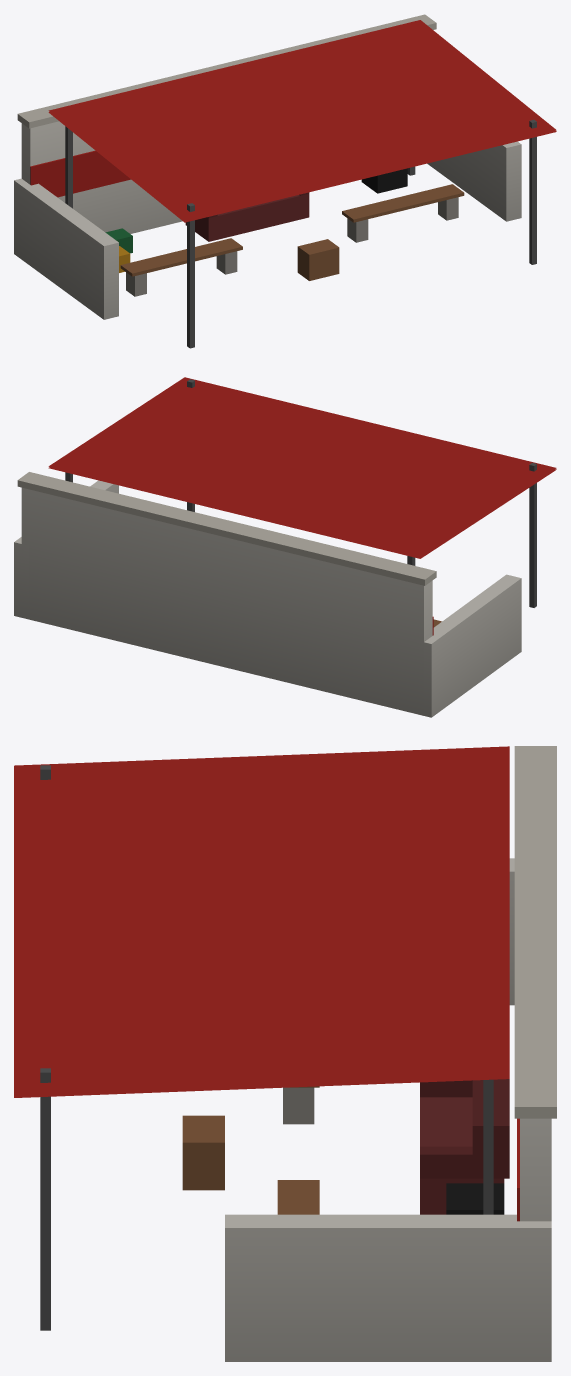
The model's file is ub_base_red.glb.
3 renders of one model, top to bottom at view 1: azimuth 30°, elevation 25°; view 2: azimuth 150°, elevation 25°; view 3: azimuth 270°, elevation 25°, orthographic. The views are drawn at different scales.
Parts seen in each view (by area): view 1: ub_base_red; view 2: ub_base_red; view 3: ub_base_red.
Part boxes in pixels (left/top/right/bottom): ub_base_red: left=14, top=14, right=556, bottom=348; ub_base_red: left=14, top=377, right=556, bottom=717; ub_base_red: left=14, top=746, right=556, bottom=1361.
Size of the model in its own units: 8.3 by 2.78 by 5.15.
